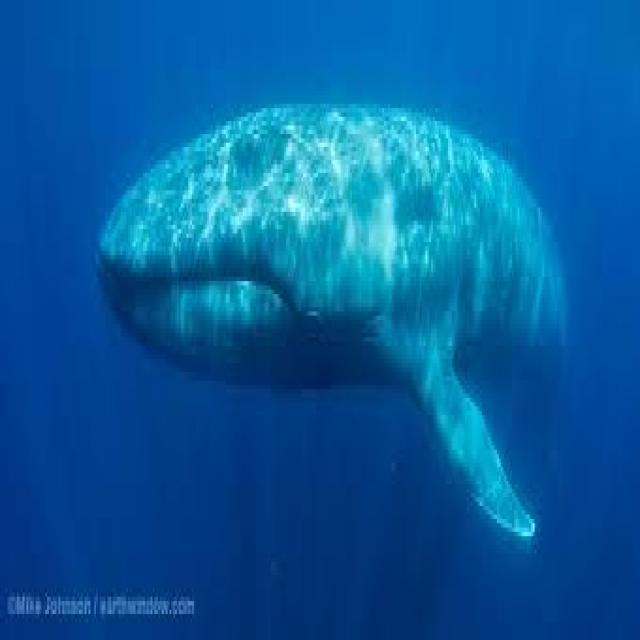blue_whale: (77, 73, 574, 558)
